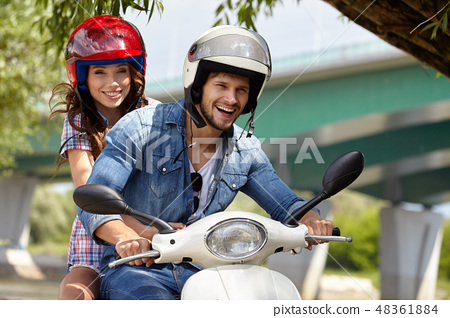helmet: (183, 26, 272, 94), (63, 21, 155, 69)
